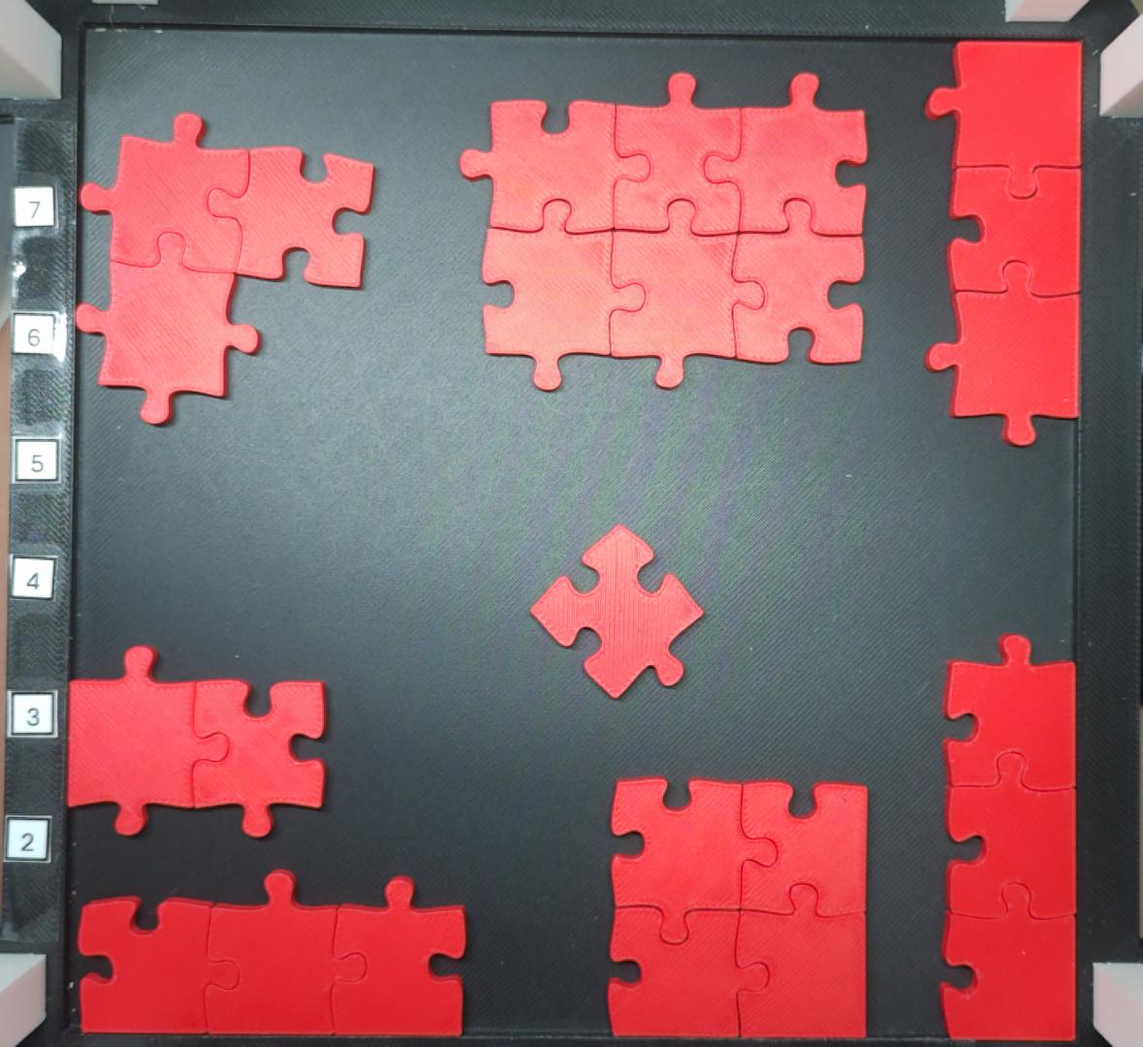p_1: (527, 522, 707, 703)
p_2: (65, 643, 328, 840)
p_3: (72, 111, 378, 428), (75, 867, 468, 1039), (922, 38, 1084, 449), (940, 631, 1080, 1043)
p_4: (605, 776, 870, 1041)
p_m: (457, 71, 869, 392)
